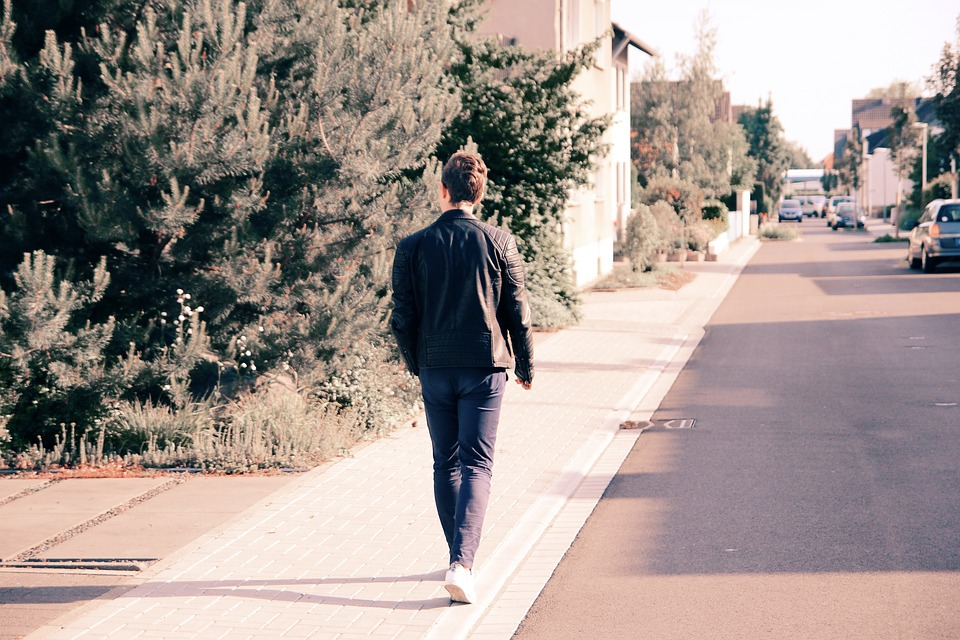pedestrian: (368, 146, 546, 614)
